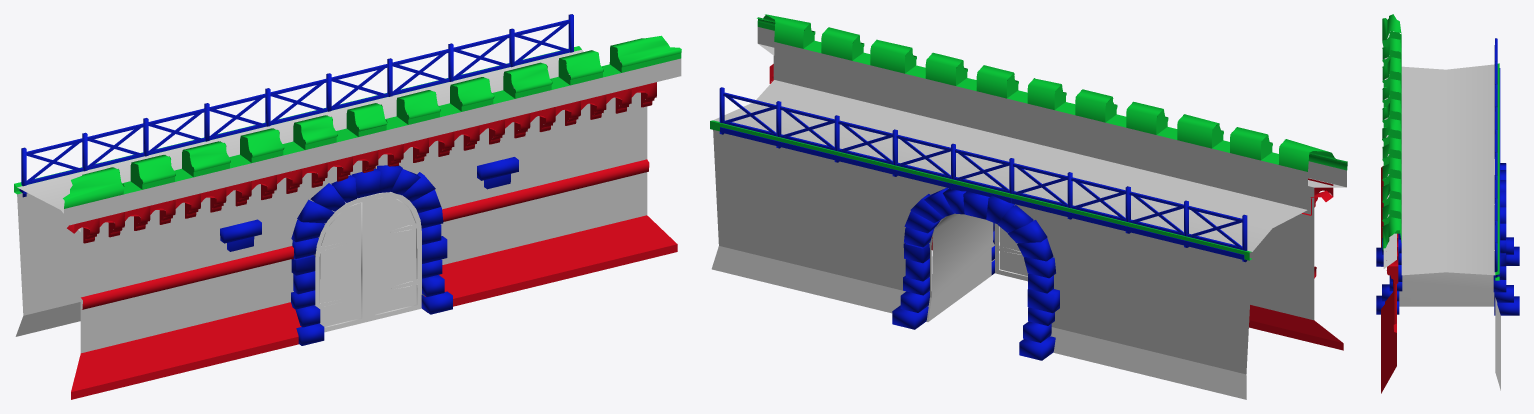
Rendered from Wall_Goal (2).fbx.
3 renders of one model, left to right at view 1: azimuth 30°, elevation 25°; view 2: azimuth 150°, elevation 25°; view 3: azimuth 270°, elevation 25°, orthographic. The views are drawn at different scales.
Visible parts, largest first — view 1: Group_4.007, Group_3.013, Group_3.011, Group_3.012; view 2: Group_4.007, Group_3.013, Group_3.011; view 3: Group_4.007, Group_3.013.
Boxes of the visible parts, x1,y1,x2,y2 form: Group_4.007: (14, 35, 681, 399); Group_3.013: (19, 14, 573, 197); Group_3.011: (368, 192, 421, 321); Group_3.012: (314, 196, 368, 332); Group_4.007: (710, 14, 1347, 399); Group_3.013: (719, 87, 1247, 262); Group_3.011: (994, 223, 1028, 281); Group_4.007: (1376, 14, 1519, 393); Group_3.013: (1494, 38, 1500, 280).
Size of the model in its own units: 2095 by 691 by 550.
